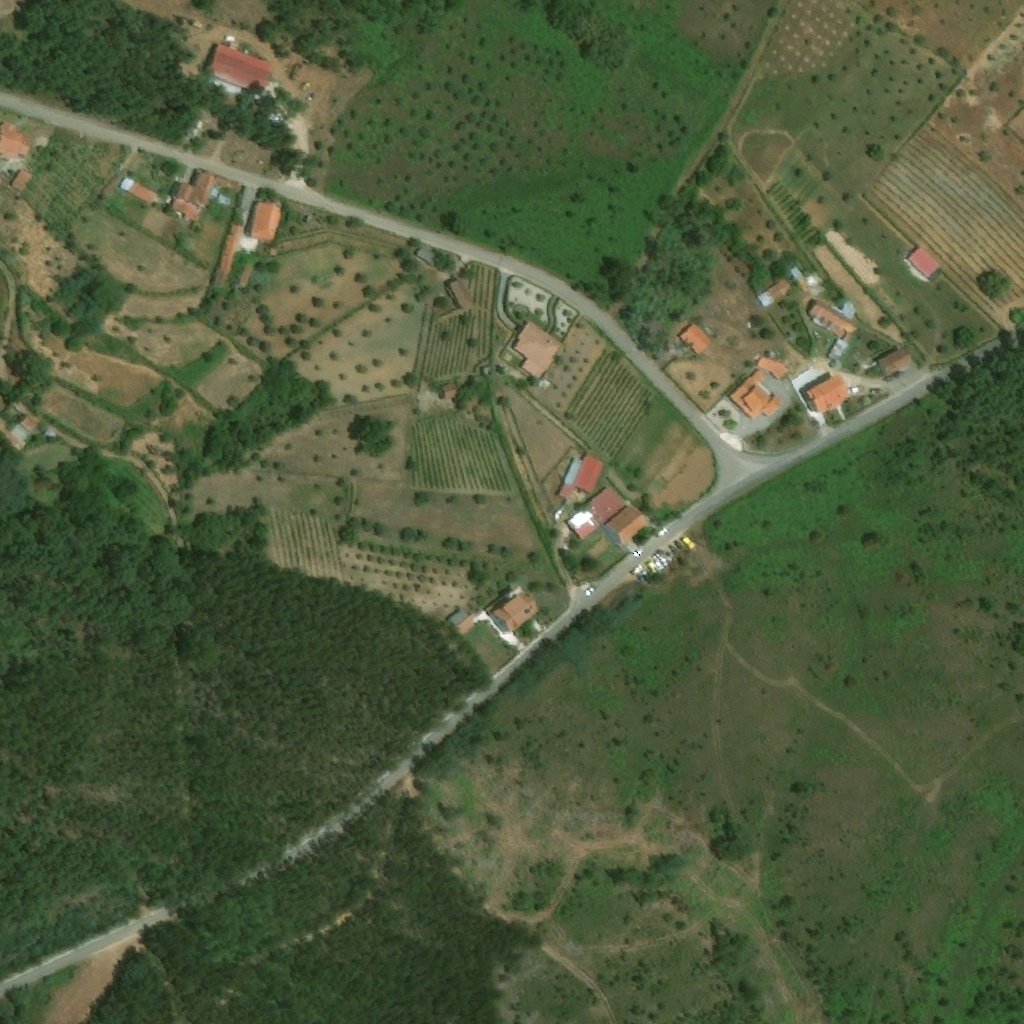0 no-damage: (212, 199, 284, 289), (566, 486, 654, 551), (805, 298, 865, 364), (208, 44, 278, 93), (513, 320, 566, 381), (725, 369, 785, 422), (486, 584, 543, 635), (169, 171, 221, 224), (558, 453, 608, 503), (802, 373, 855, 415), (673, 322, 716, 359), (0, 118, 33, 163), (875, 343, 918, 377), (904, 246, 942, 281), (754, 276, 794, 309), (0, 413, 33, 453), (119, 177, 160, 206), (448, 608, 486, 635), (447, 276, 475, 311), (787, 265, 815, 297), (756, 356, 789, 381), (9, 169, 36, 193), (415, 247, 442, 269), (441, 381, 465, 401), (20, 414, 41, 434), (45, 428, 58, 438)
